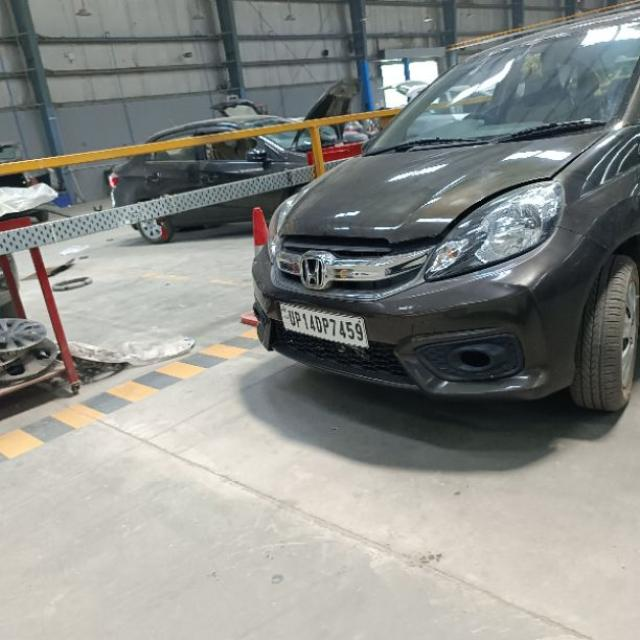license_plate: (277, 300, 369, 349)
